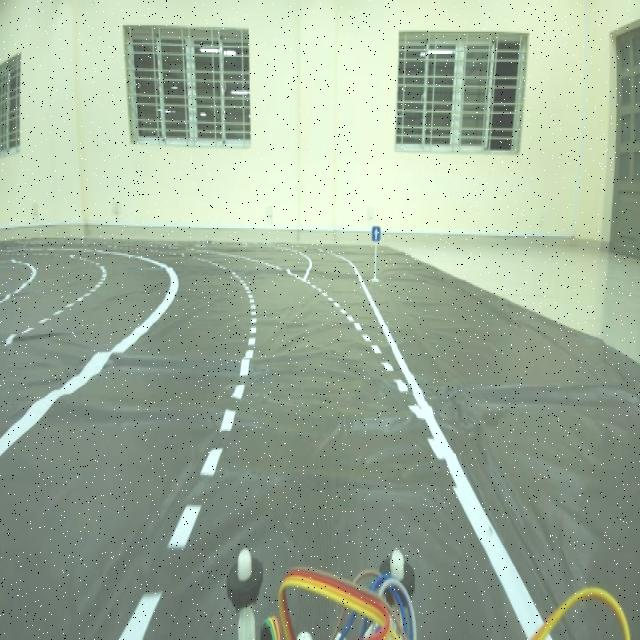onewayroad: (365, 216, 387, 247)
